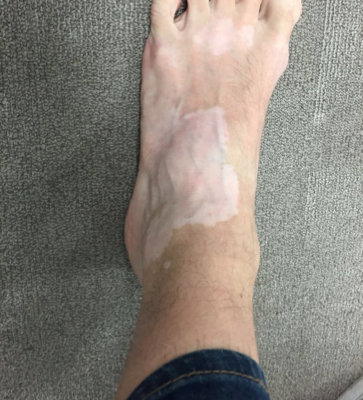vitiligo: (140, 86, 263, 258)
